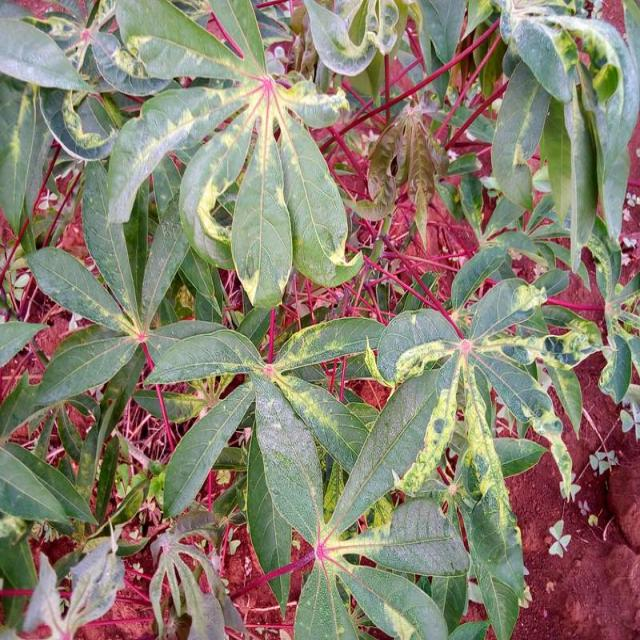Mosaico: (386, 287, 618, 519), (35, 11, 166, 163), (182, 52, 338, 156), (310, 523, 441, 640), (496, 0, 615, 118), (241, 309, 360, 423)
